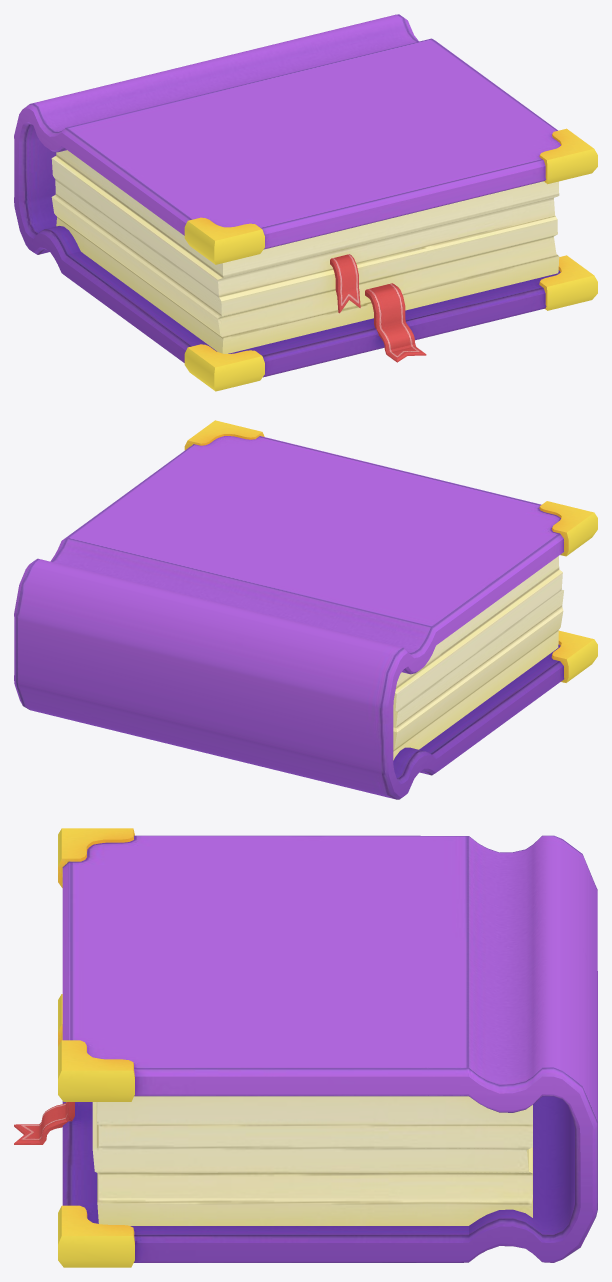
File: diary.glb
3 views of the same model, one above another, from view 1: azimuth 30°, elevation 25°; view 2: azimuth 150°, elevation 25°; view 3: azimuth 270°, elevation 25° (orthographic). The views are drawn at different scales.
Visible parts, largest first — view 1: M_StylizedBook; view 2: M_StylizedBook; view 3: M_StylizedBook.
Boxes of the visible parts, x1=… form: M_StylizedBook: x1=14, y1=14, x2=597, y2=391; M_StylizedBook: x1=14, y1=420, x2=597, y2=799; M_StylizedBook: x1=14, y1=828, x2=597, y2=1267.
Size of what is drawn, in the model's own units: 10.67 by 4.04 by 10.77.
1 material, 1 textured.
